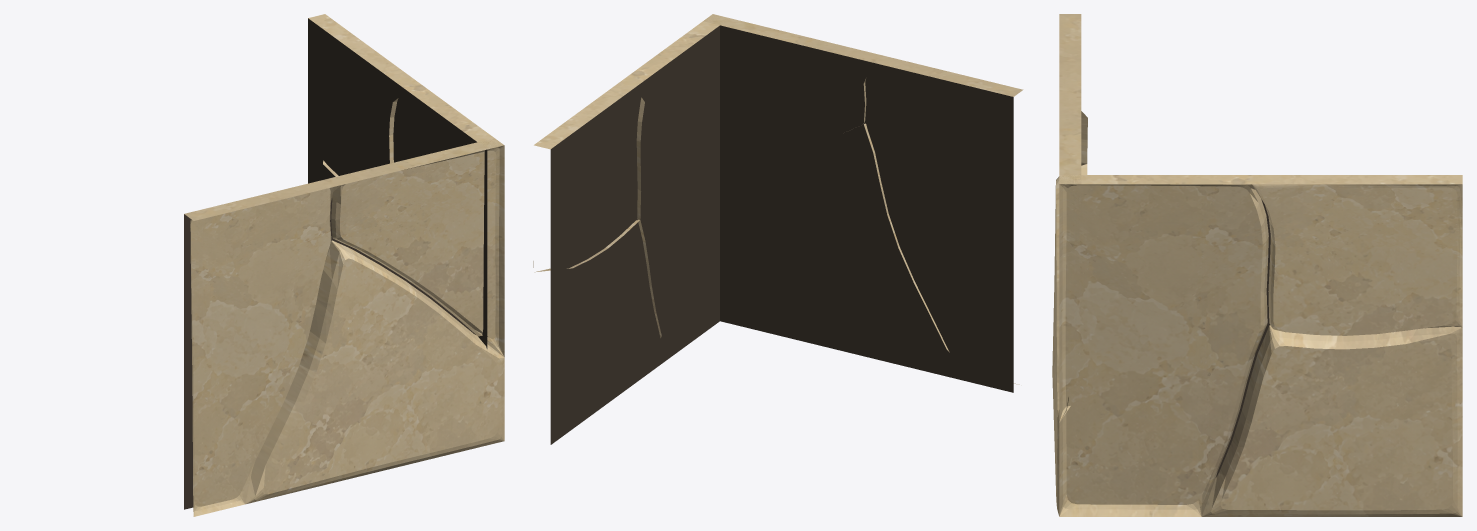
Rendered from ground_corner_09.glb.
3 views of the same model, side by side, from view 1: azimuth 30°, elevation 25°; view 2: azimuth 150°, elevation 25°; view 3: azimuth 270°, elevation 25° (orthographic). The views are drawn at different scales.
Parts seen in each view (by area): view 1: GroundCorner09_Body; view 2: GroundCorner09_Body; view 3: GroundCorner09_Body.
Boxes of the visible parts, box(x1,y1,x2,y2) form: GroundCorner09_Body: box(184, 14, 504, 516); GroundCorner09_Body: box(533, 14, 1023, 444); GroundCorner09_Body: box(1052, 14, 1462, 516).
Size of the model in its own units: 1.02 by 0.91 by 1.02.
8 materials, 7 textured.
